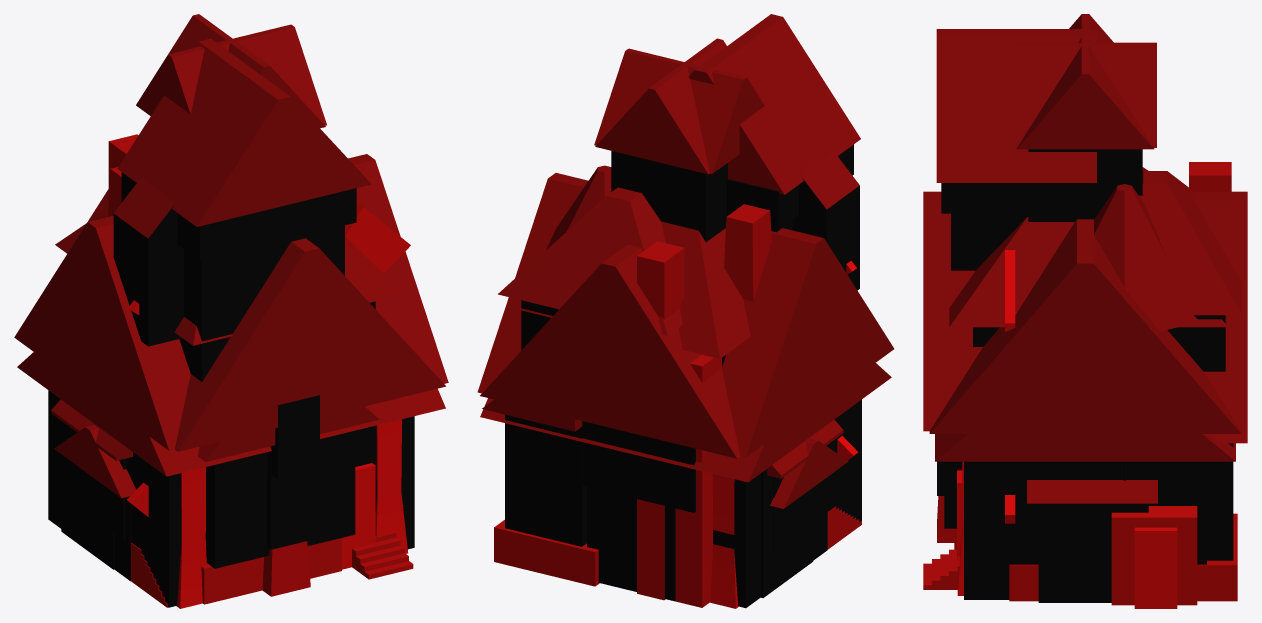
The model's file is fantasy-houses.glb.
The picture shows the model from 3 angles, left to right: view 1: azimuth 30°, elevation 25°; view 2: azimuth 150°, elevation 25°; view 3: azimuth 270°, elevation 25°; orthographic projection. The views are drawn at different scales.
Visible parts, largest first — view 1: house-4, house-5, house-8, house-3, house-0, house-2, house-9, house-1, house-6, house-7; view 2: house-4, house-5, house-3, house-8, house-1, house-9, house-0, house-2, house-6; view 3: house-4, house-8, house-5, house-3, house-6, house-9, house-2, house-7, house-0.
Part boxes in pixels (x1=…): house-4: x1=14, y1=14, x2=448, y2=608; house-5: x1=113, y1=38, x2=413, y2=604; house-8: x1=17, y1=305, x2=445, y2=607; house-3: x1=51, y1=134, x2=379, y2=607; house-0: x1=262, y1=332, x2=324, y2=596; house-2: x1=41, y1=308, x2=114, y2=569; house-9: x1=55, y1=167, x2=404, y2=345; house-1: x1=271, y1=395, x2=319, y2=479; house-6: x1=54, y1=425, x2=135, y2=580; house-7: x1=127, y1=203, x2=410, y2=516; house-4: x1=477, y1=38, x2=894, y2=608; house-5: x1=482, y1=14, x2=860, y2=586; house-3: x1=498, y1=187, x2=861, y2=600; house-8: x1=480, y1=317, x2=891, y2=608; house-1: x1=547, y1=335, x2=695, y2=512; house-9: x1=517, y1=204, x2=771, y2=366; house-0: x1=575, y1=315, x2=676, y2=601; house-2: x1=546, y1=165, x2=832, y2=597; house-6: x1=770, y1=438, x2=848, y2=560; house-4: x1=923, y1=14, x2=1247, y2=595; house-8: x1=935, y1=347, x2=1235, y2=599; house-5: x1=923, y1=29, x2=1247, y2=601; house-3: x1=944, y1=162, x2=1241, y2=608; house-6: x1=1027, y1=480, x2=1157, y2=602; house-9: x1=949, y1=167, x2=1227, y2=346; house-2: x1=1094, y1=184, x2=1197, y2=480; house-7: x1=1005, y1=250, x2=1015, y2=523; house-0: x1=937, y1=461, x2=954, y2=542.
Bounding box in the file's own units: 1 × 1.69 × 1.
